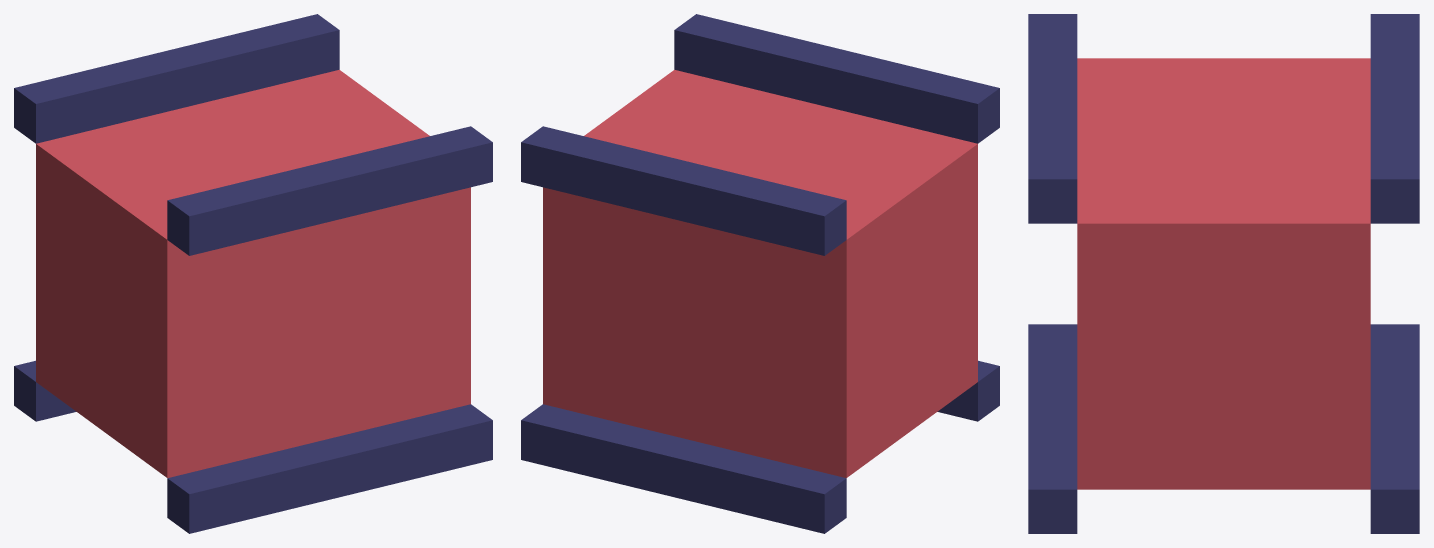
File: connector_2.gltf
3 views of the same model, side by side, from view 1: azimuth 30°, elevation 25°; view 2: azimuth 150°, elevation 25°; view 3: azimuth 270°, elevation 25° (orthographic). The views are drawn at different scales.
Parts seen in each view (by area): view 1: Layer.1; view 2: Layer.1; view 3: Layer.1.
Boxes of the visible parts, <box> form: Layer.1: <box>14,14,492,533</box>; Layer.1: <box>521,14,999,533</box>; Layer.1: <box>1028,14,1419,533</box>.
Bounding box in the file's own units: 8 × 8 × 8.
Materials: 1 (1 with a texture image).
